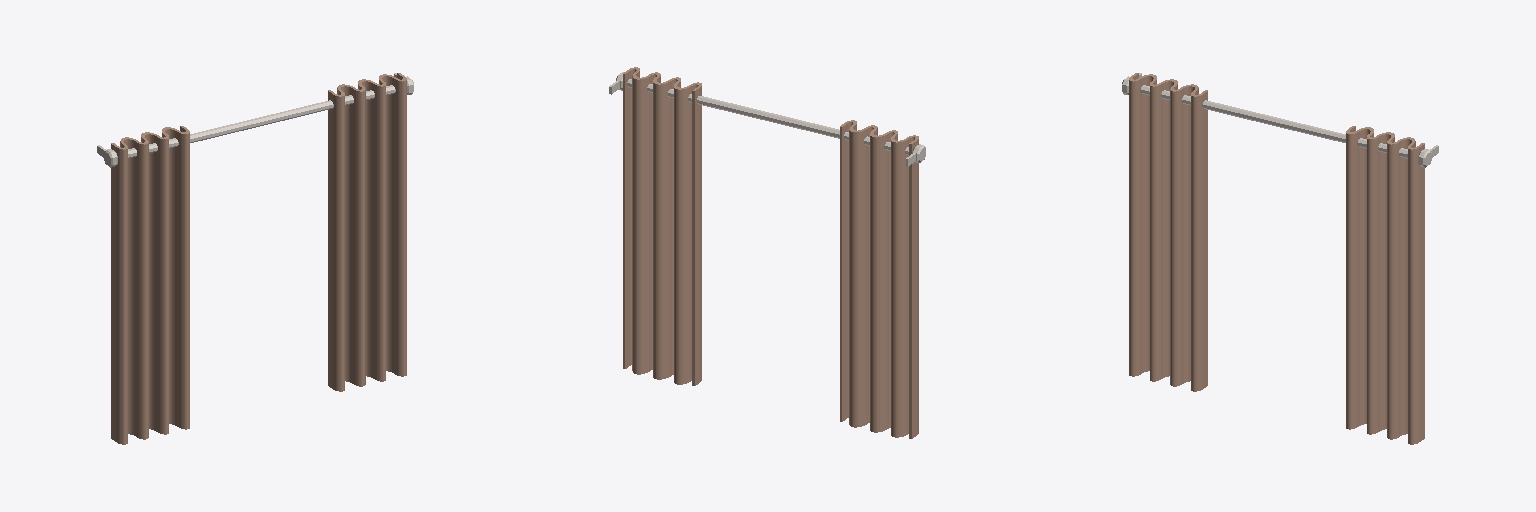
Rendered from Prop_Curtains_Double.obj.
3 renders of one model, left to right at view 1: azimuth 30°, elevation 25°; view 2: azimuth 150°, elevation 25°; view 3: azimuth 330°, elevation 25°, orthographic.
Visible parts, largest first — view 1: object2, object3, object1; view 2: object2, object3, object1; view 3: object3, object2, object1.
Boxes of the visible parts, <box> form: object2: <box>328,73,406,391</box>; object3: <box>111,126,189,444</box>; object1: <box>97,73,413,167</box>; object2: <box>623,67,701,385</box>; object3: <box>840,120,918,438</box>; object1: <box>609,72,925,166</box>; object3: <box>1129,73,1207,391</box>; object2: <box>1346,126,1424,444</box>; object1: <box>1122,73,1438,167</box>.
Size of the model in its own units: 2.1 by 1.95 by 0.225.